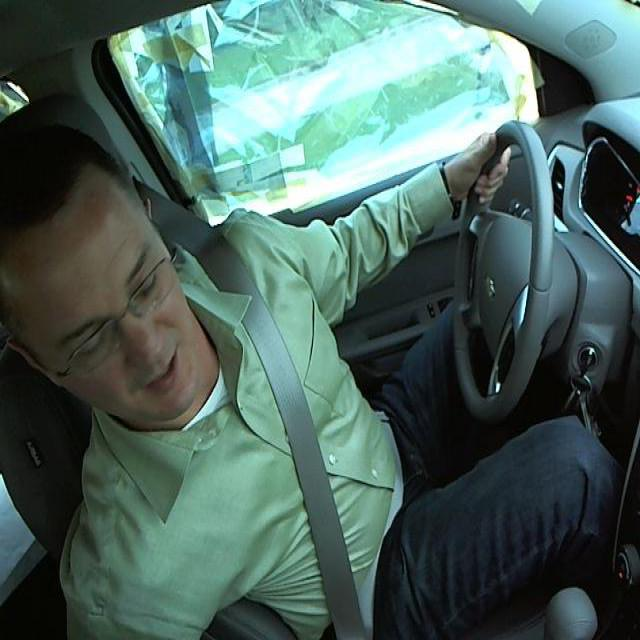seatbelt: (225, 292, 367, 639)
